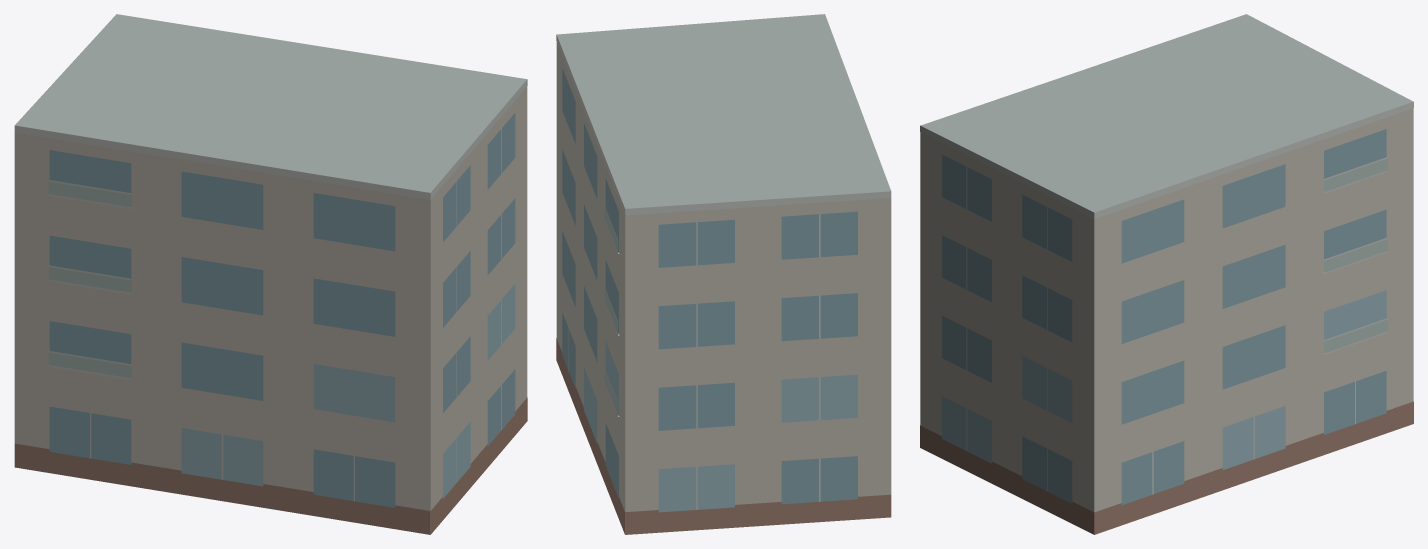
Rendered from survey-upis-32990897.glb.
3 renders of one model, left to right at view 1: azimuth 30°, elevation 25°; view 2: azimuth 150°, elevation 25°; view 3: azimuth 270°, elevation 25°, orthographic. The views are drawn at different scales.
Visible parts, largest first — view 1: survey-upis-32990897.tmp; view 2: survey-upis-32990897.tmp; view 3: survey-upis-32990897.tmp.
Part boxes in pixels (x1=…): survey-upis-32990897.tmp: x1=14, y1=14, x2=527, y2=534; survey-upis-32990897.tmp: x1=556, y1=14, x2=891, y2=534; survey-upis-32990897.tmp: x1=920, y1=14, x2=1413, y2=534.
Size of the model in its own units: 16.14 by 12.2 by 16.94.
